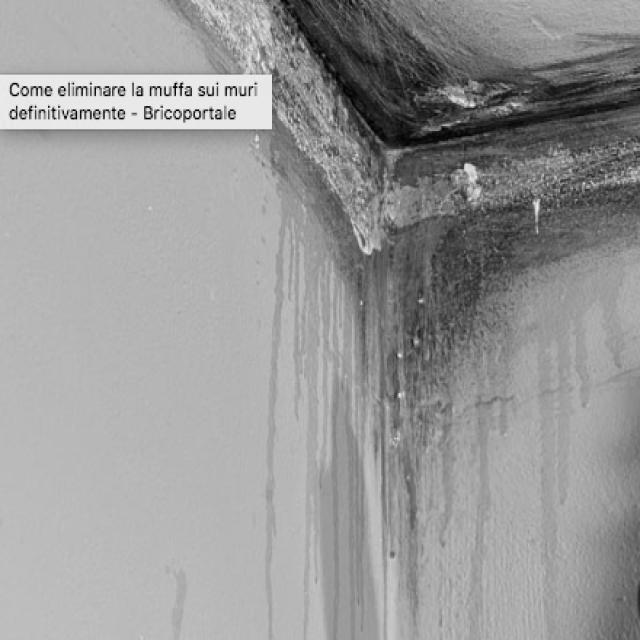stain marks: (276, 0, 638, 587)
